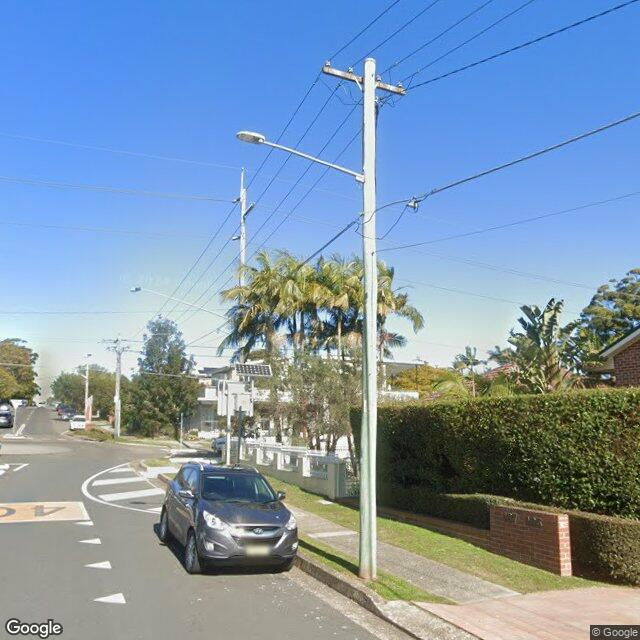HV-transmission: (231, 167, 255, 241)
crossarm: (321, 65, 407, 96)
streetlight: (236, 132, 366, 182), (130, 285, 239, 324), (64, 371, 86, 379)
timber-pole: (358, 58, 378, 580), (238, 188, 246, 365), (114, 337, 120, 437), (85, 352, 90, 416)
